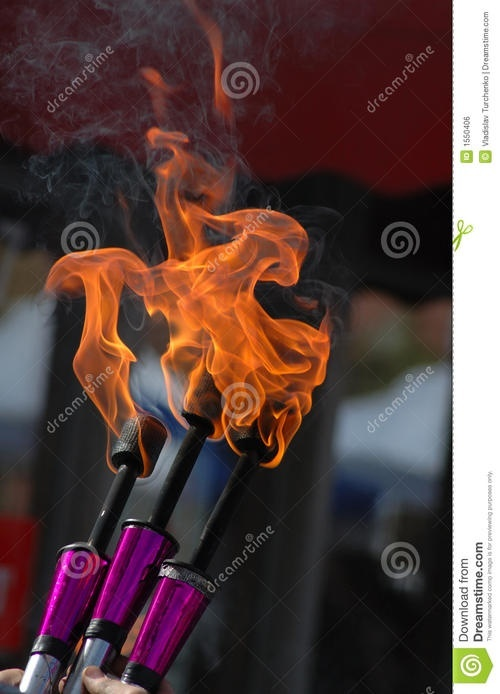fire: (44, 121, 344, 494)
